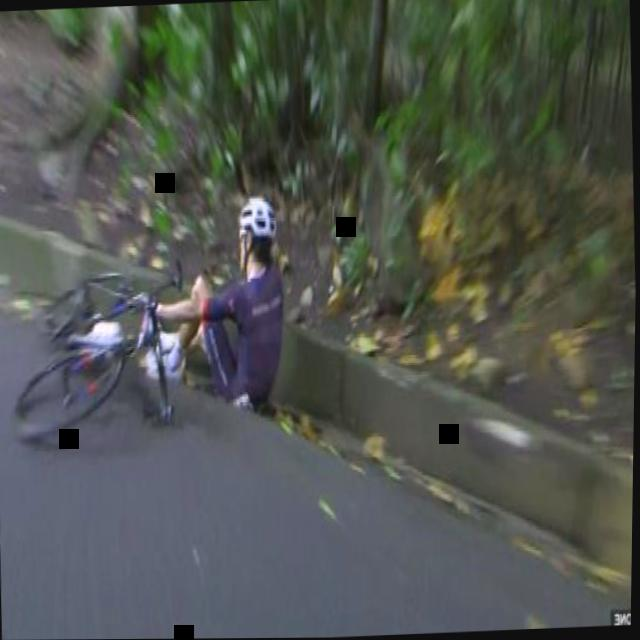Fall-Detected: (131, 179, 298, 419)
